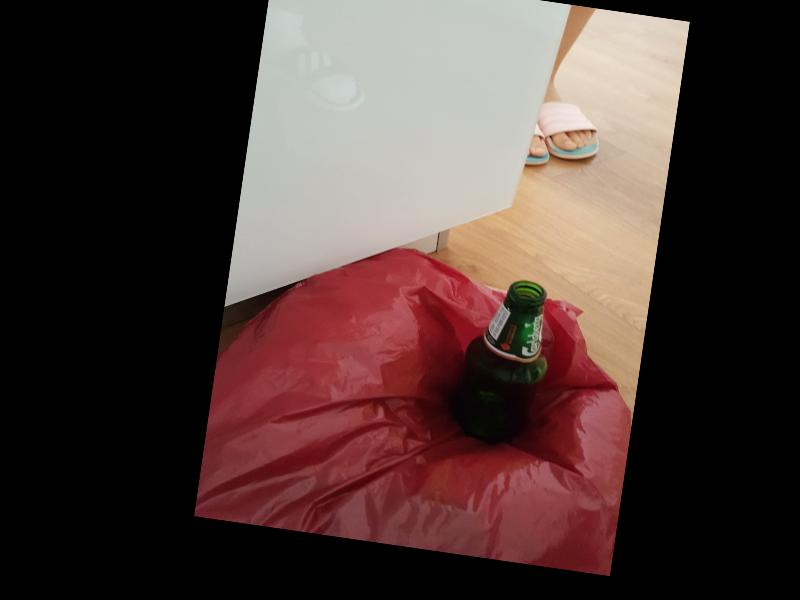Beer: (446, 273, 557, 449)
